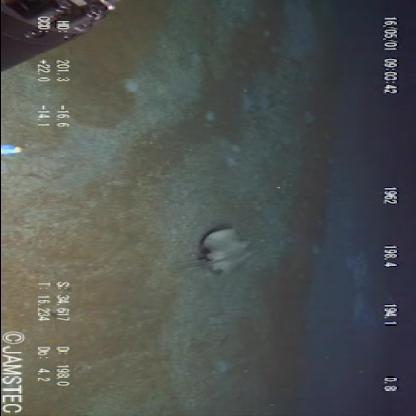Bio: (173, 223, 257, 278)
